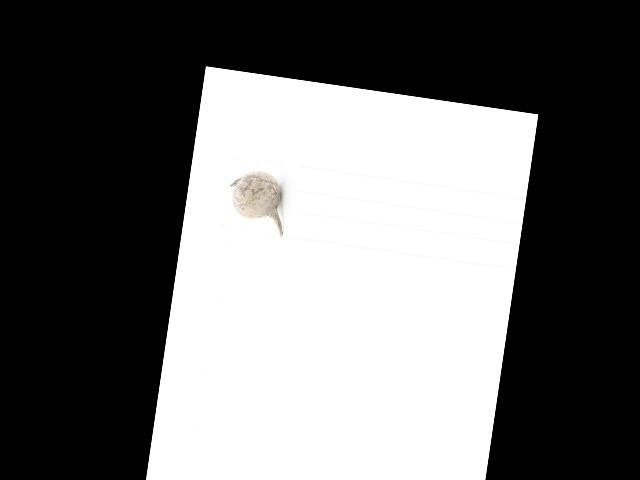beet: (224, 166, 291, 235)
